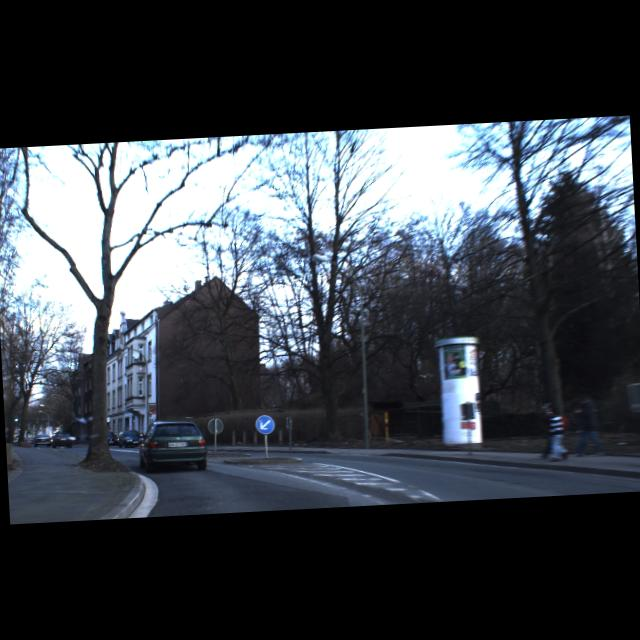mandatory: (256, 415, 276, 435)
